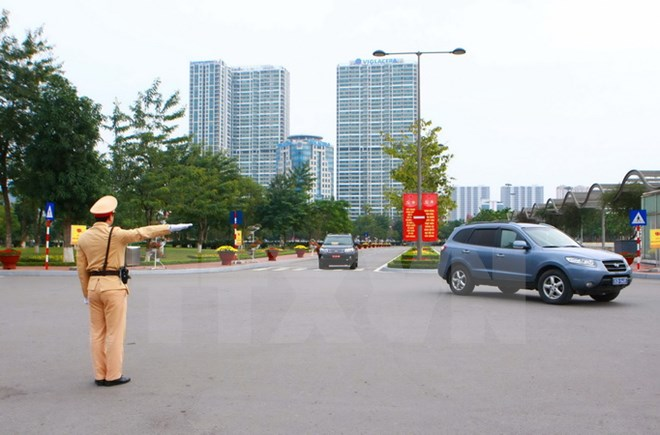police: (73, 192, 180, 387)
